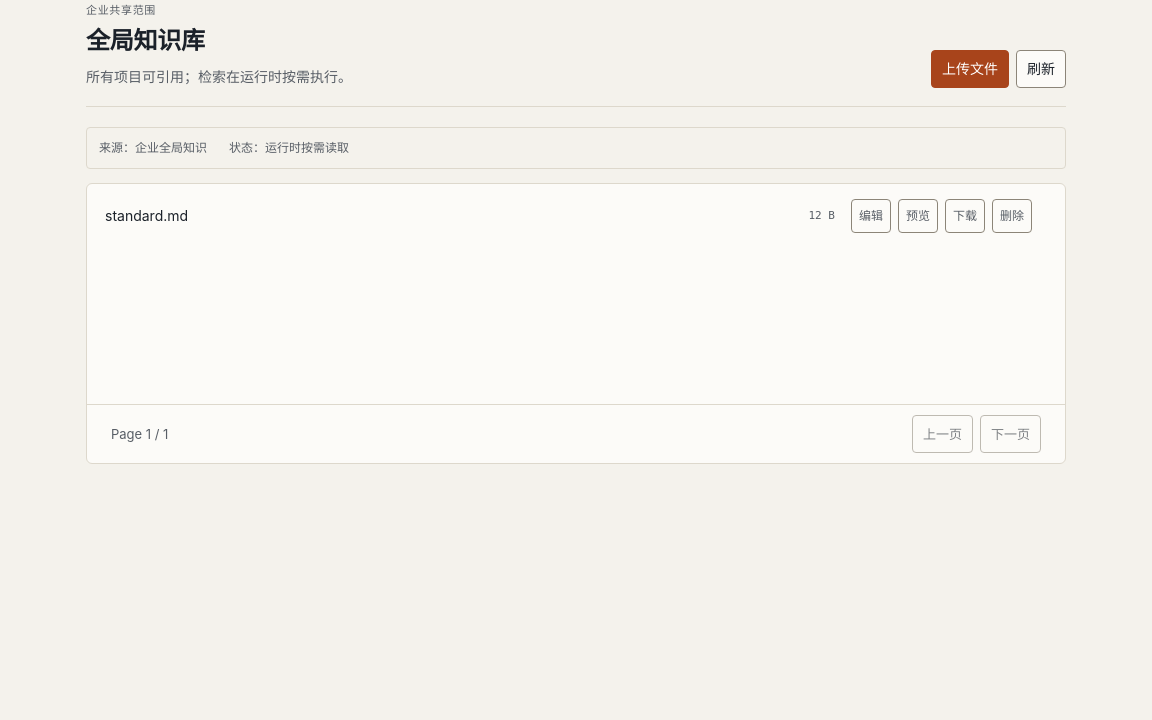
Test: GlobalKnowledgePage › downloads, deletes, and opens editable text through shared file capabilities
Click the button with aria-label "下载 standard.md".
click(965, 216)  # box x1=945 y1=199 x2=985 y2=233
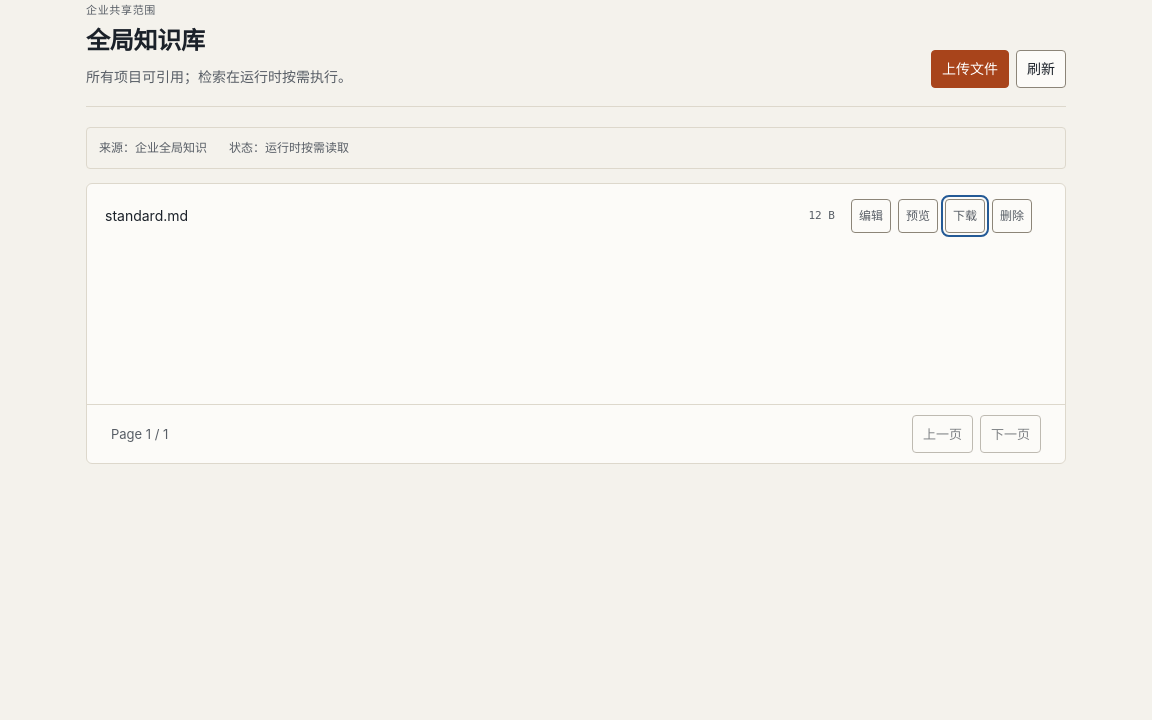
Click the button with aria-label "删除 standard.md".
click(1012, 216)  # box x1=992 y1=199 x2=1032 y2=233
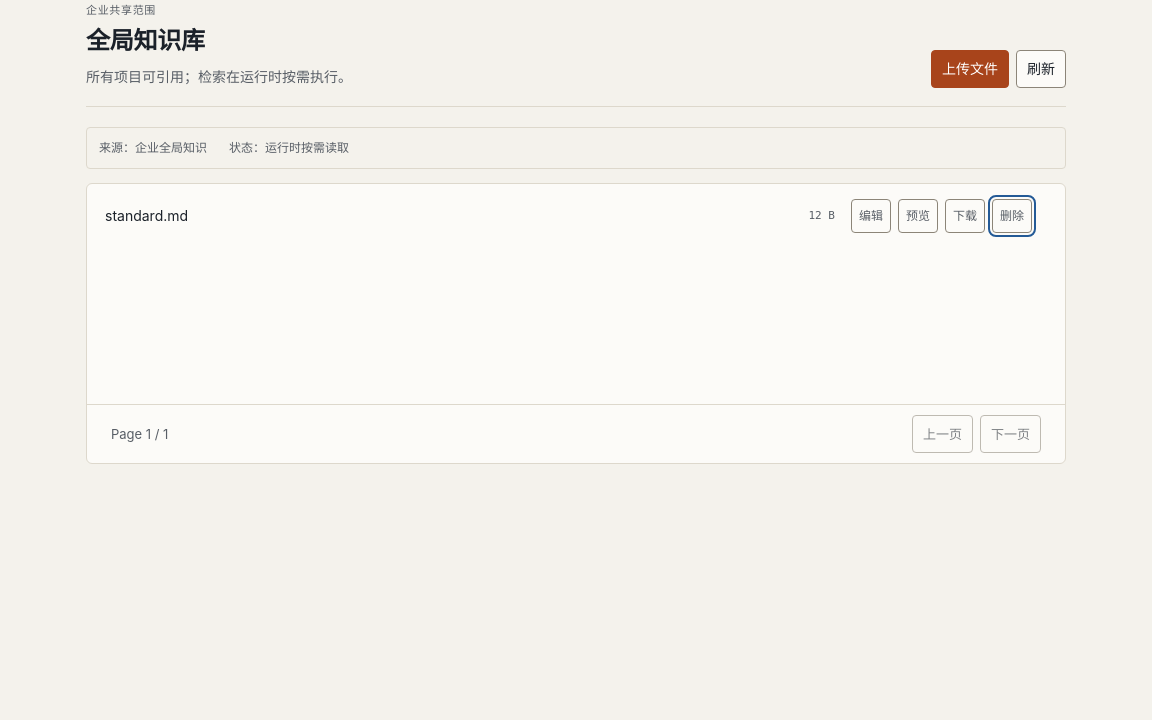
Click the button with aria-label "编辑 standard.md".
click(871, 216)  # box x1=851 y1=199 x2=891 y2=233
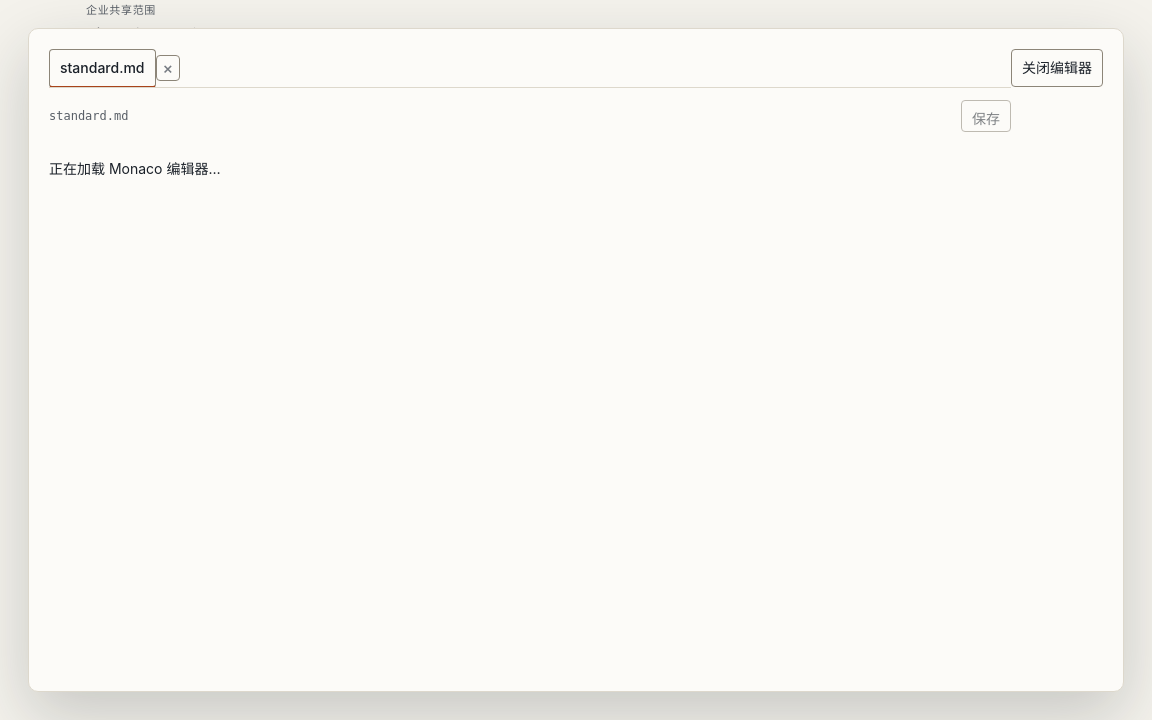
Expected: the button "关闭编辑器" is shown, x1=1011 y1=49 x2=1103 y2=87
